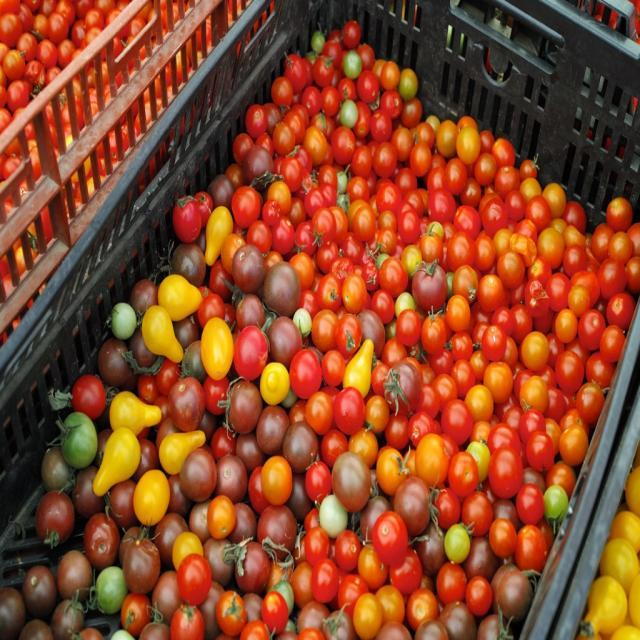Tomato: (0, 17, 639, 639), (0, 0, 272, 347)
